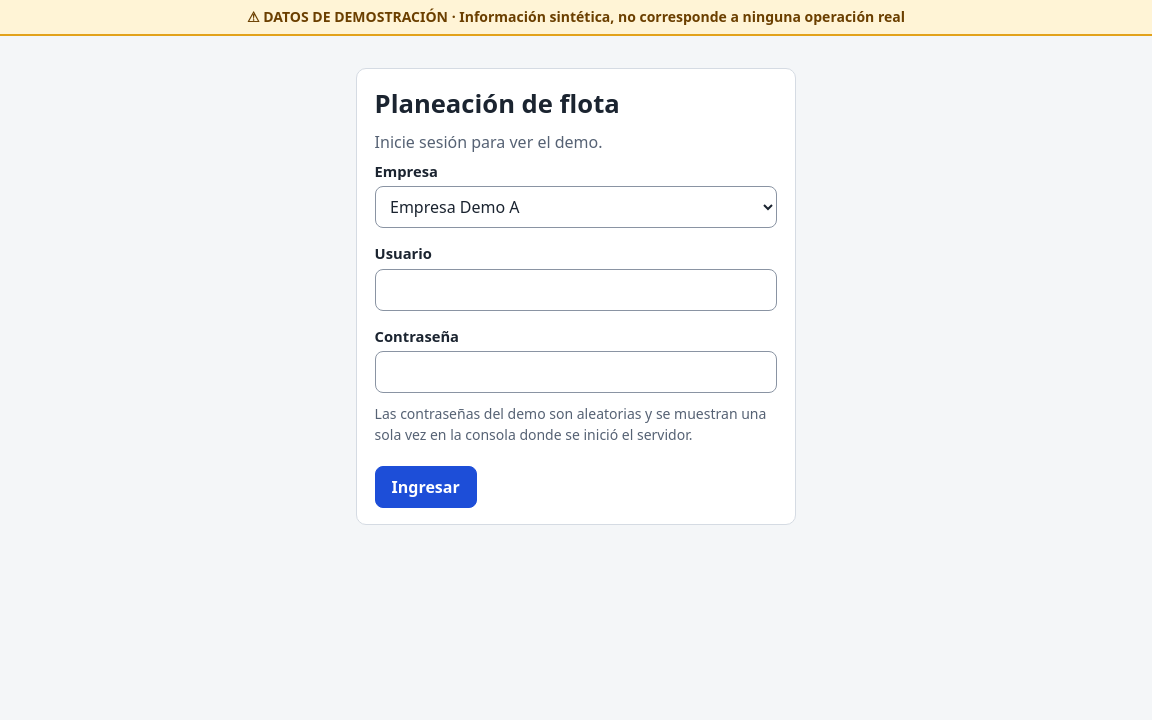
Test case: inicio de sesión › envía la empresa elegida y entra
Select "Empresa Demo B" in the dropdown labelled "Empresa": (576, 207) [375,186,777,228]
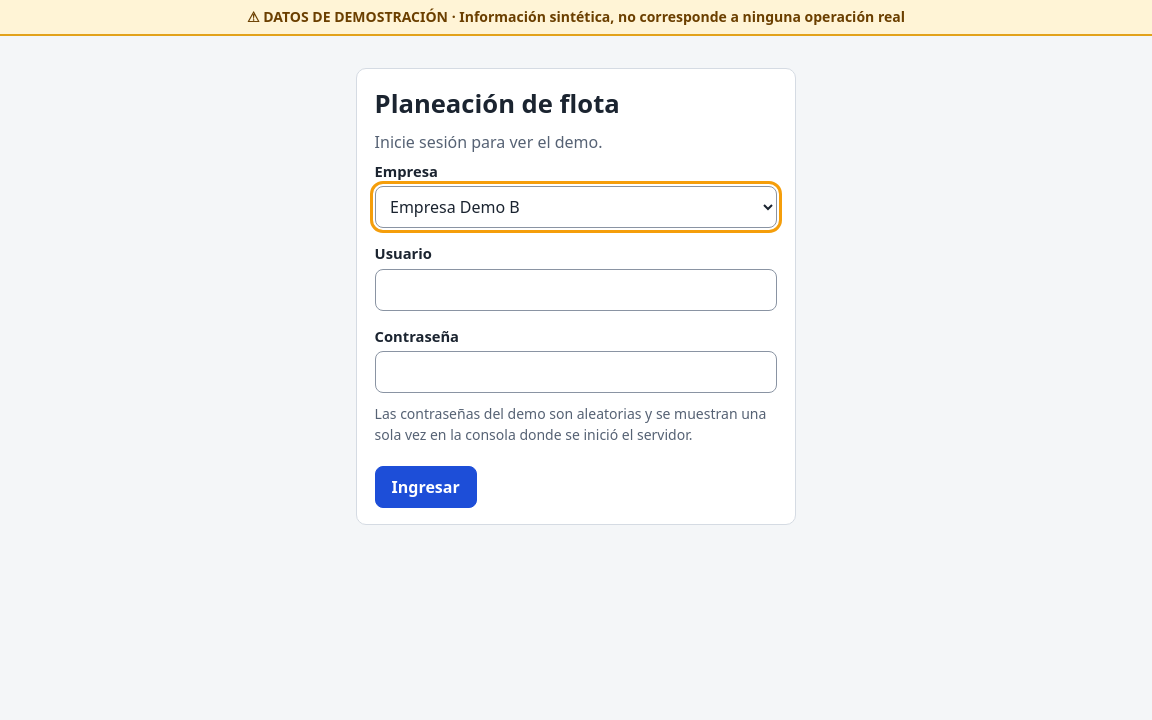
In the field labelled "Usuario": (576, 290) [375,268,777,310], type " gerencia "
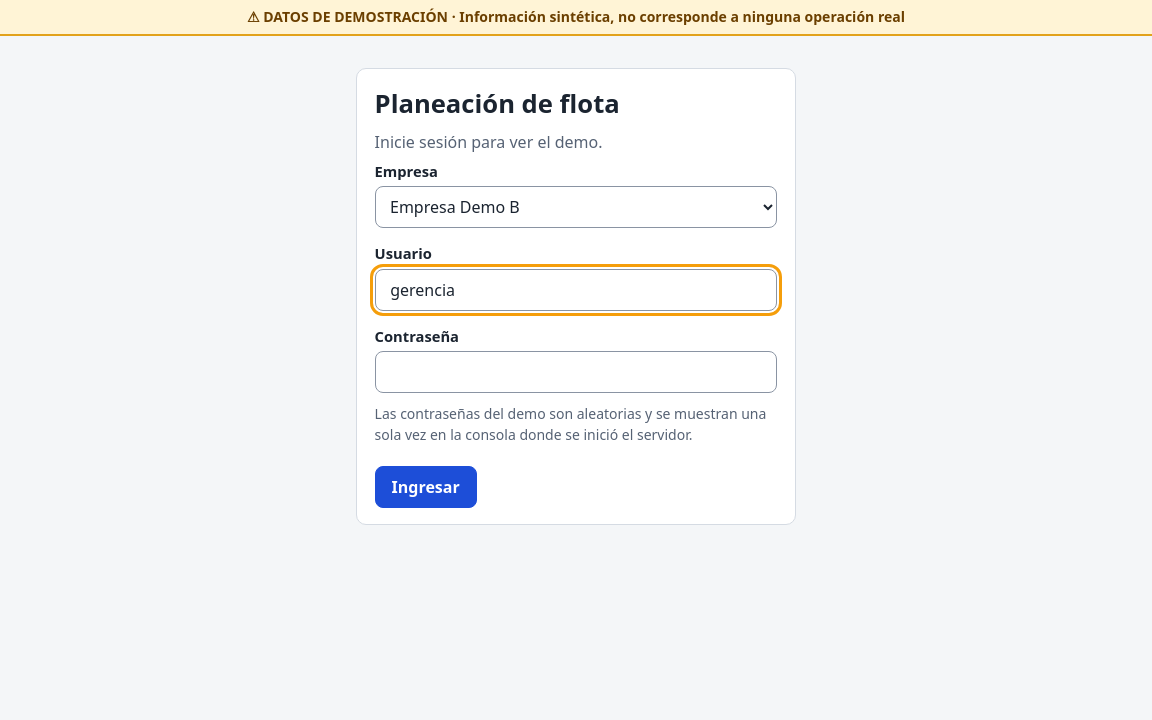
In the password field labelled "Contraseña": (576, 372) [375,351,777,393], type "ClaveSegura2026"
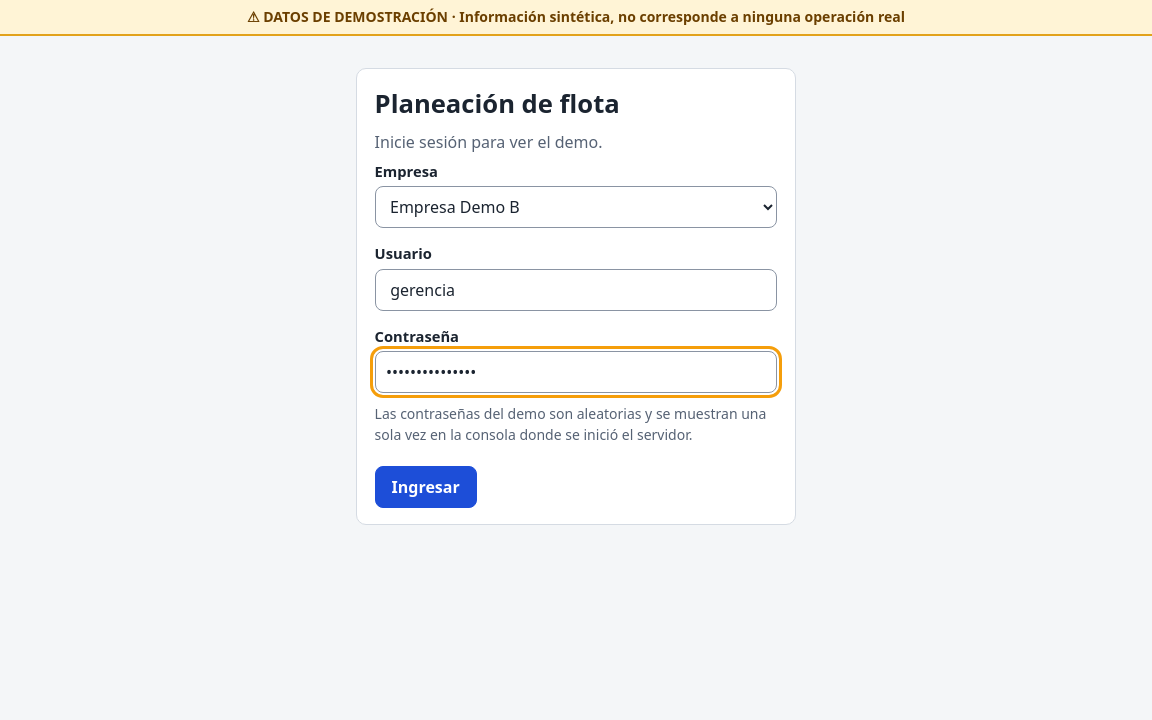
Click the button "Ingresar": (426, 487) [375,466,477,508]
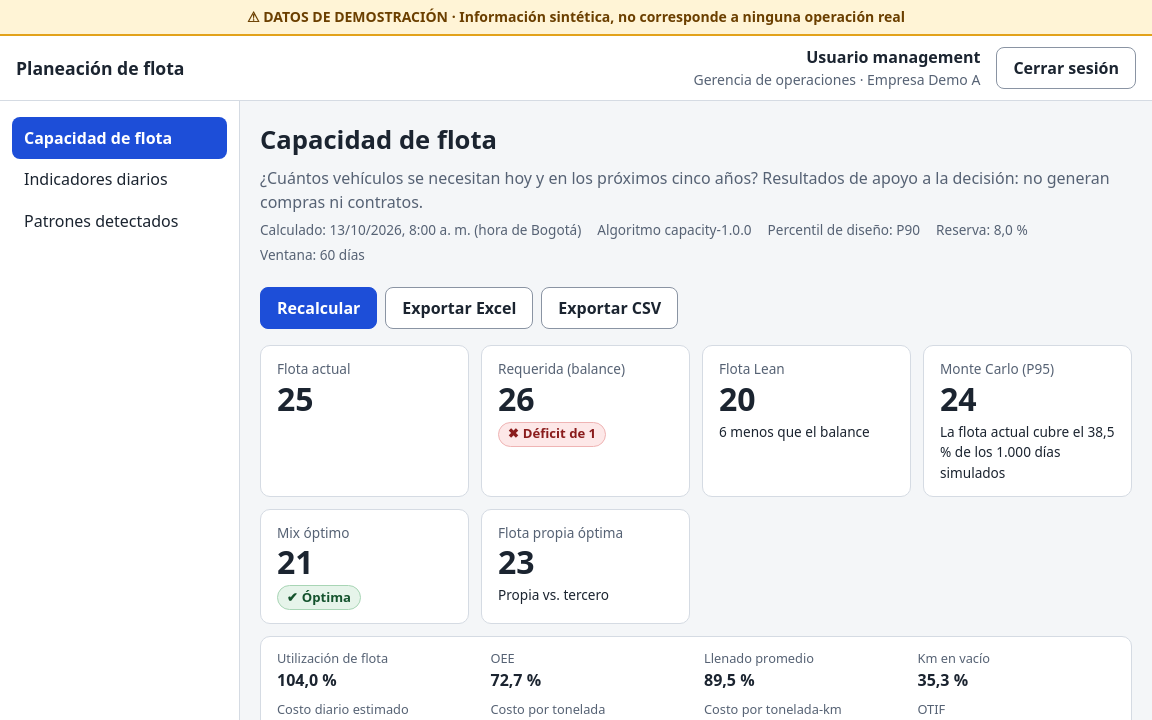
Expected: the heading "Capacidad de flota" is shown, [260,122,497,157]
